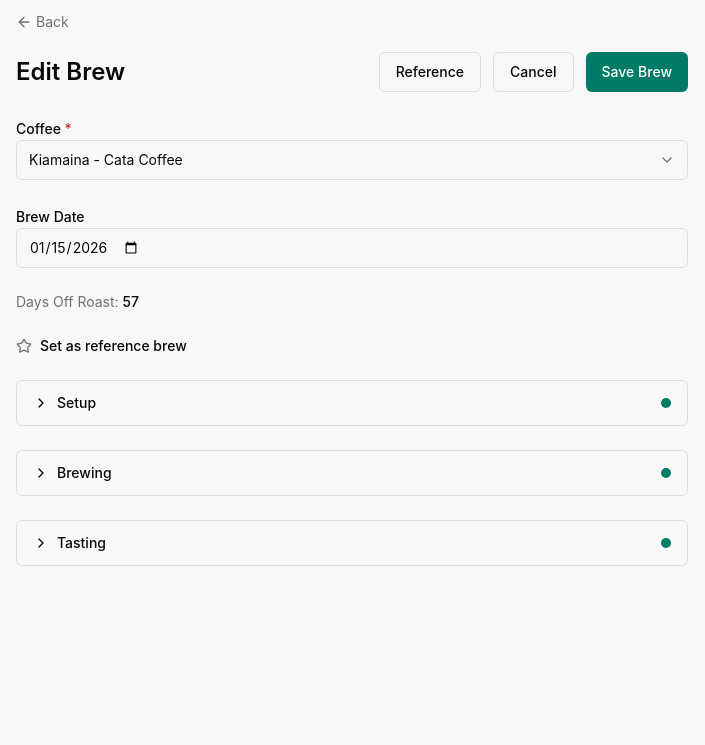
Test: BrewFormPage › Dripper dropdown › pre-fills dripper when editing a brew with dripper
Expected: the heading "Edit Brew" is shown, [16,56,125,88]
Click the button "Setup" at coordinates (77, 402), box [17,381,687,425]
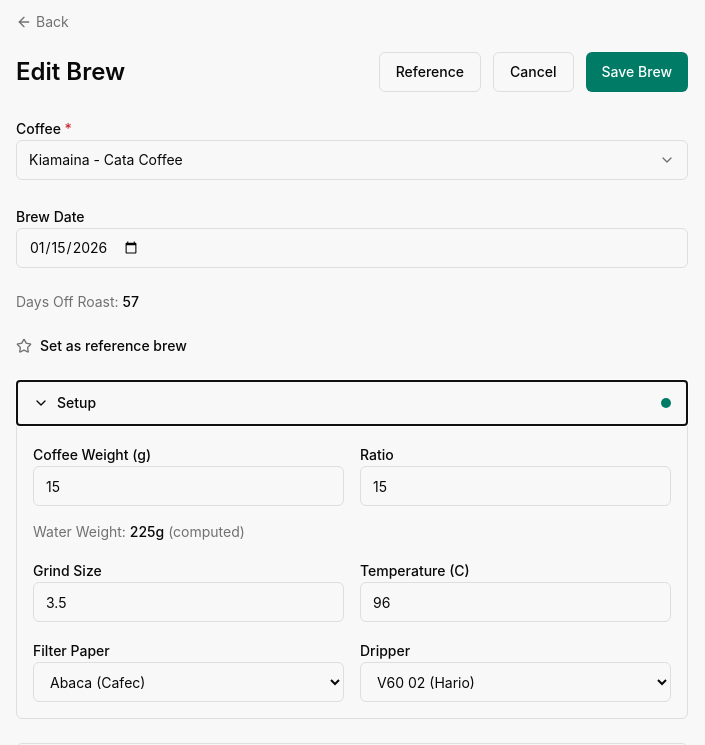
Expected: the dropdown labelled "Dripper" shows "V60 02 (Hario)", [360,662,671,702]
